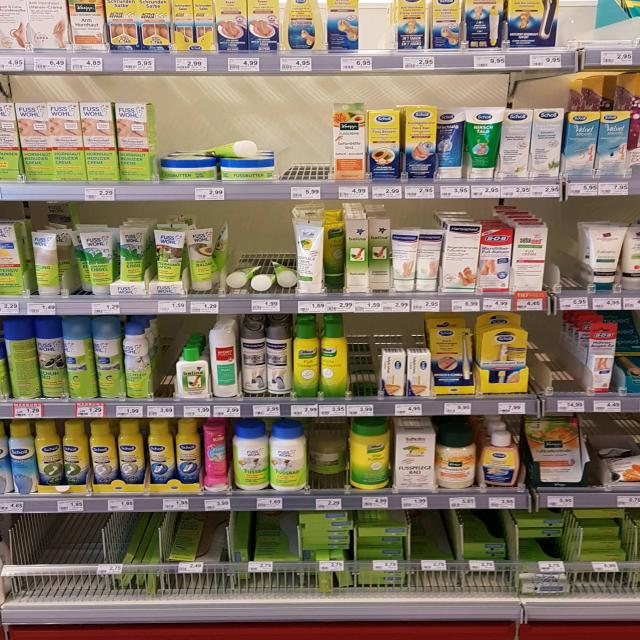empty: (21, 515, 112, 594), (275, 97, 339, 185), (542, 1, 640, 58), (526, 309, 583, 406), (405, 501, 461, 584), (549, 209, 590, 292), (344, 325, 382, 410), (144, 322, 181, 400), (355, 1, 401, 58)
